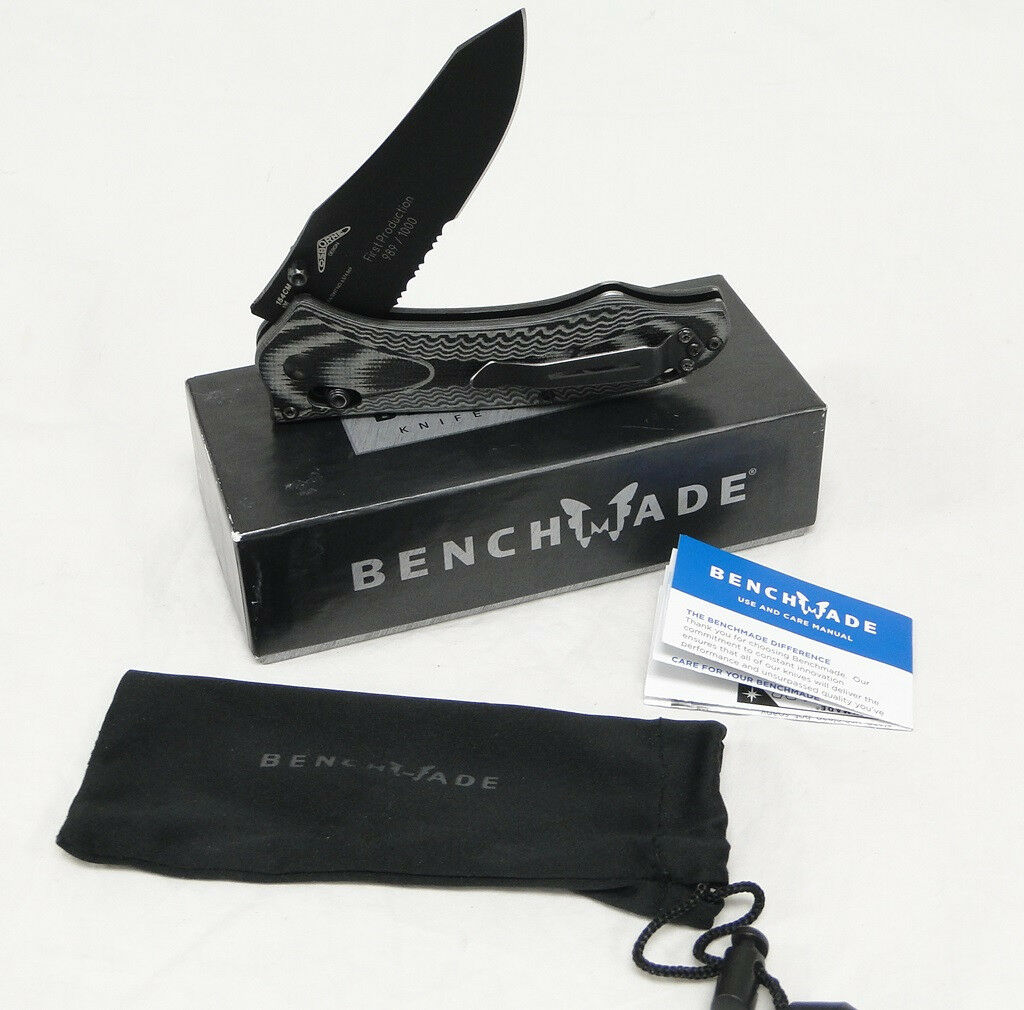knief: (212, 28, 749, 376)
